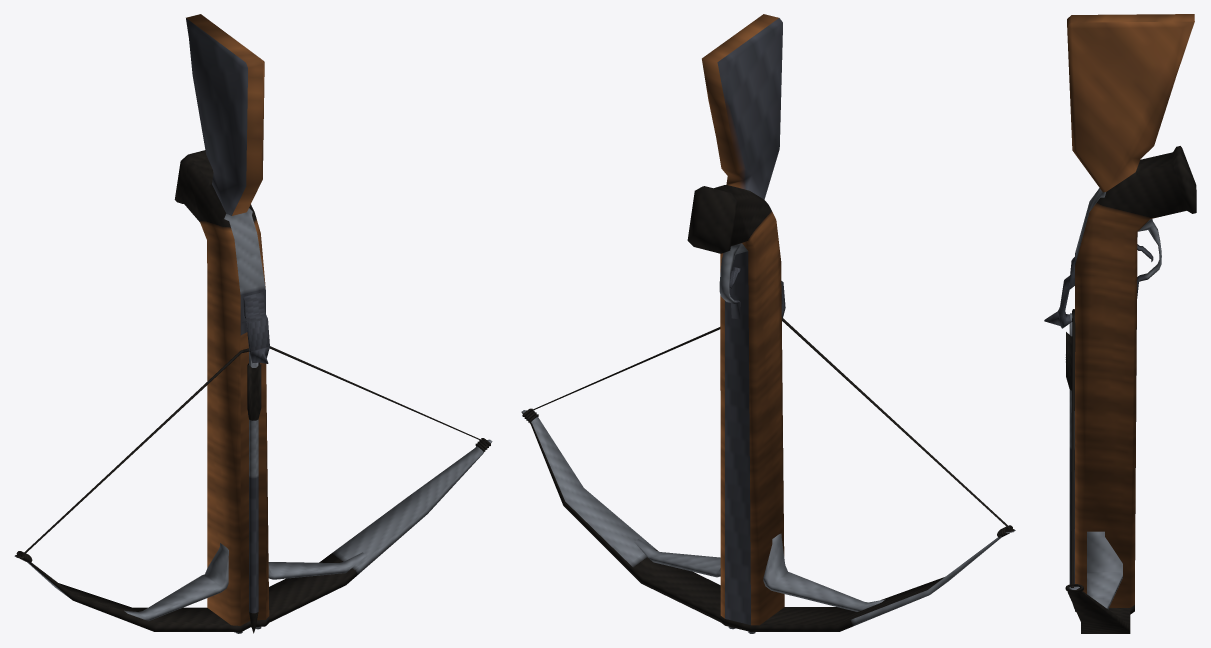
Rendered from CrossBowDrawn.fbx.
The picture shows the model from 3 angles, left to right: view 1: azimuth 30°, elevation 25°; view 2: azimuth 150°, elevation 25°; view 3: azimuth 270°, elevation 25°; orthographic projection. The views are drawn at different scales.
Parts seen in each view (by area): view 1: Plane.006; view 2: Plane.006; view 3: Plane.006.
Part boxes in pixels (x1,y1,x2,y2): Plane.006: (14,14,492,633); Plane.006: (521,14,1015,633); Plane.006: (1044,14,1196,633).
Size of the model in its own units: 1887 by 2181 by 510.
